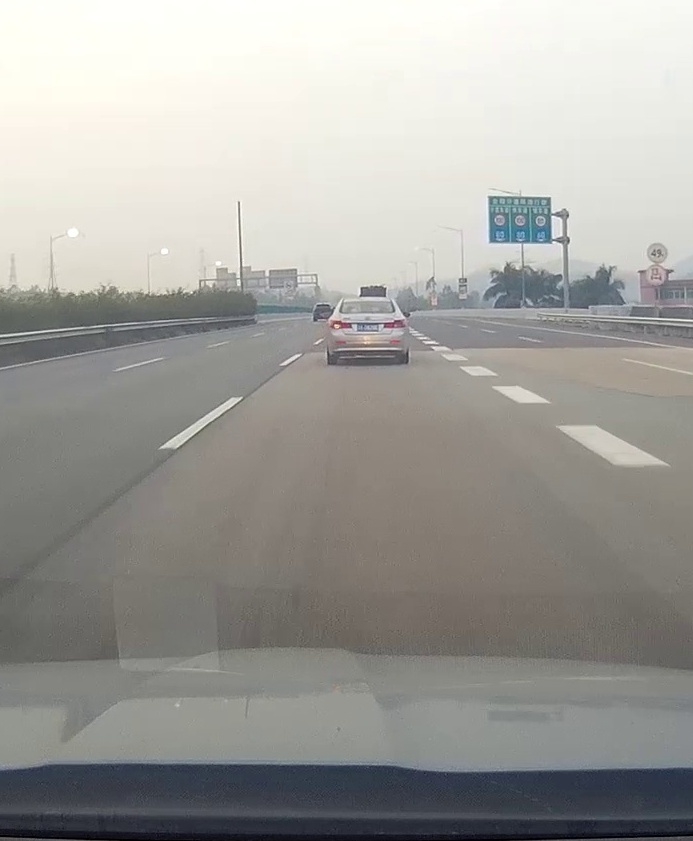L_light: (329, 320, 351, 328)
R_light: (383, 319, 405, 328)
T_light: (363, 301, 376, 304)
day-left: (326, 298, 409, 363)
